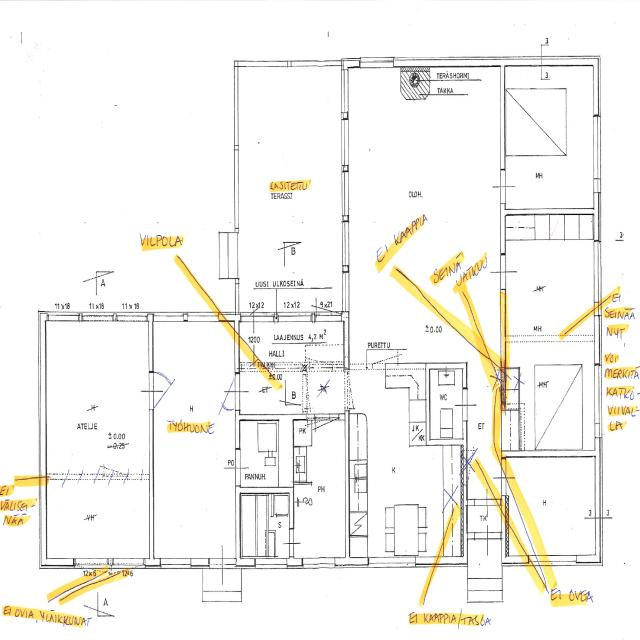door: (316, 414, 338, 453)
